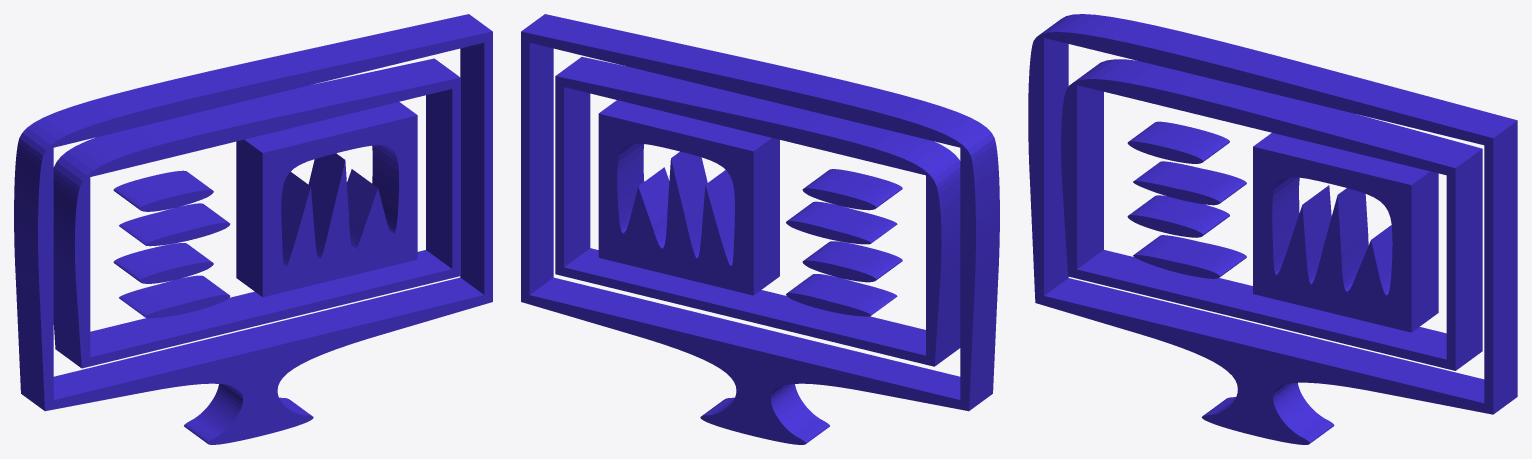
File: Technical.gltf
3 views of the same model, side by side, from view 1: azimuth 30°, elevation 25°; view 2: azimuth 150°, elevation 25°; view 3: azimuth 330°, elevation 25° (orthographic). The views are drawn at different scales.
Parts seen in each view (by area): view 1: Curve, Curve.001, Curve.002, Curve.006, Curve.004, Curve.003, Curve.005; view 2: Curve, Curve.001, Curve.002, Curve.004, Curve.006, Curve.005, Curve.003; view 3: Curve, Curve.001, Curve.002, Curve.004, Curve.006, Curve.003, Curve.005.
Boxes of the visible parts, <box> form: Curve: <box>14,14,492,444</box>; Curve.001: <box>53,58,460,368</box>; Curve.002: <box>236,102,417,297</box>; Curve.006: <box>119,275,230,318</box>; Curve.004: <box>119,203,230,246</box>; Curve.003: <box>113,170,213,211</box>; Curve.005: <box>113,243,213,283</box>; Curve: <box>521,14,999,444</box>; Curve.001: <box>555,57,960,366</box>; Curve.002: <box>598,100,779,295</box>; Curve.004: <box>786,201,897,244</box>; Curve.006: <box>786,274,897,316</box>; Curve.005: <box>802,241,902,282</box>; Curve.003: <box>802,169,902,210</box>; Curve: <box>1028,14,1517,444</box>; Curve.001: <box>1061,59,1482,370</box>; Curve.002: <box>1253,133,1438,332</box>; Curve.004: <box>1133,161,1246,205</box>; Curve.006: <box>1133,235,1246,278</box>; Curve.003: <box>1127,121,1229,163</box>; Curve.005: <box>1127,195,1229,237</box>.
Bounding box in the file's own units: 0.0649 × 0.0483 × 0.00651.
